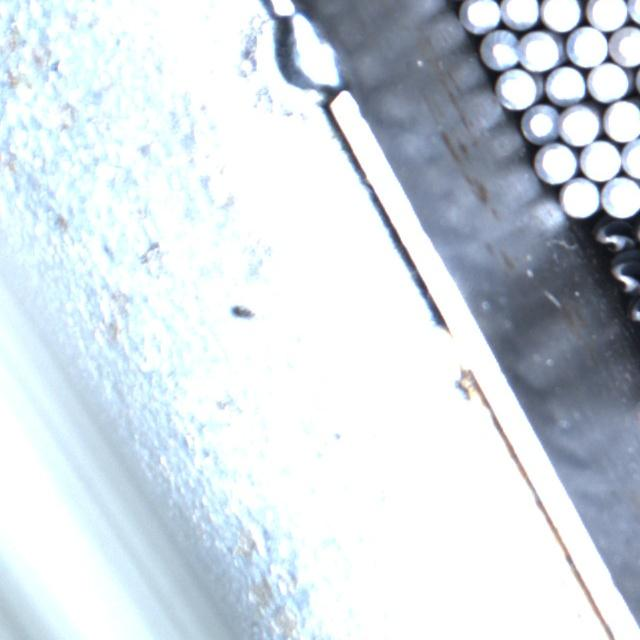tool: (496, 66, 540, 109), (520, 27, 562, 71), (579, 138, 621, 181), (534, 141, 577, 183), (478, 28, 521, 70), (544, 63, 586, 104), (520, 103, 562, 144), (585, 61, 628, 101), (566, 24, 606, 66), (559, 177, 600, 217), (600, 175, 640, 216), (602, 98, 640, 141), (560, 103, 599, 144), (460, 0, 501, 32), (608, 24, 640, 65), (541, 0, 582, 31), (585, 0, 626, 28), (500, 0, 539, 29), (621, 136, 640, 178)
tool_b: (588, 217, 637, 253), (606, 256, 640, 295)
